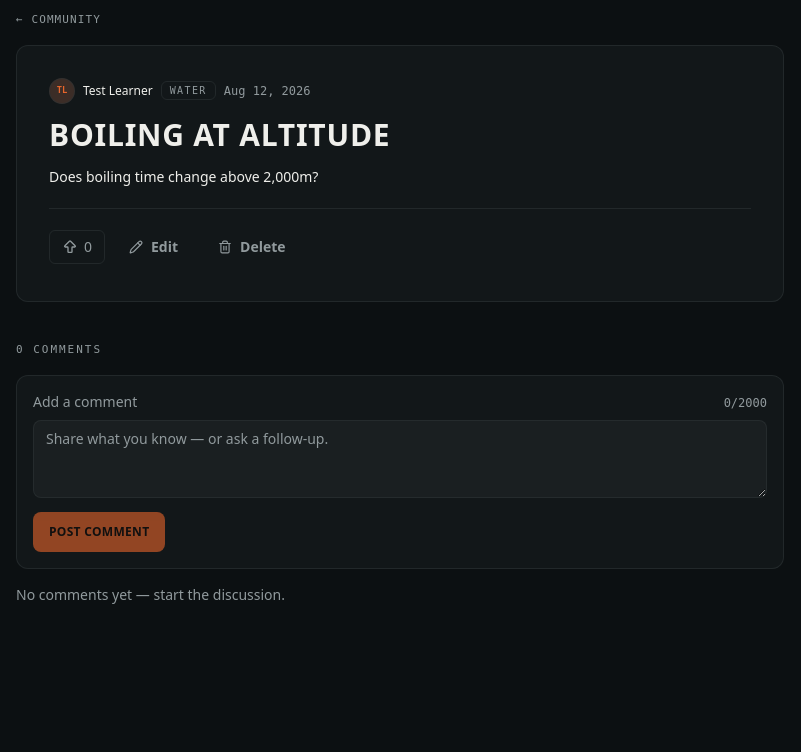
Test: PostDetailPage › renders the post with comments and toggles votes idempotently
expect the heading "Boiling at altitude" is shown: met, box [49,114,390,154]
expect the text "Does boiling time change above 2,000m?" is shown: met, box [49,166,318,186]
Click the button named "vote on this post": coordinates (77, 247) [49,230,105,264]
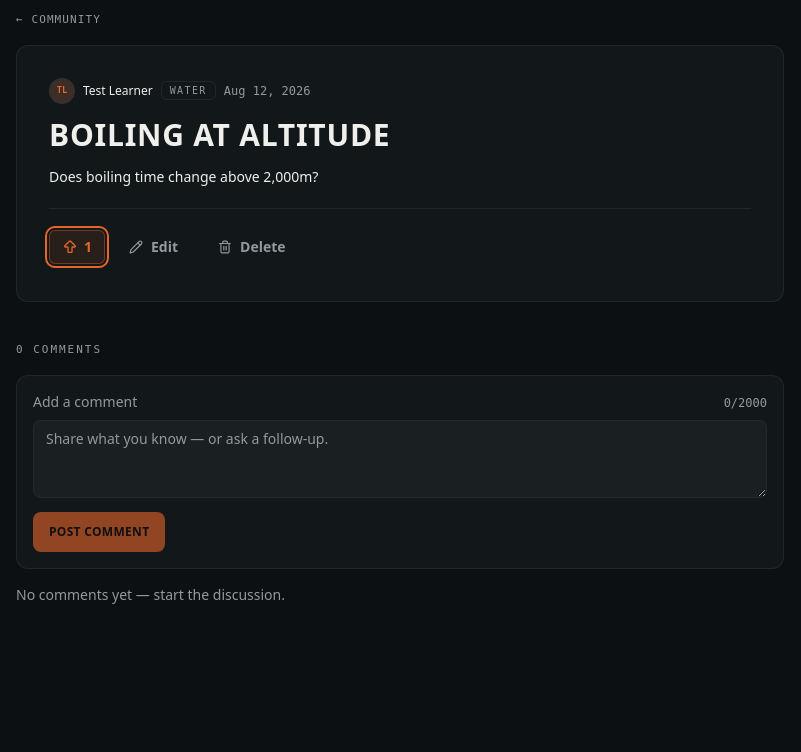
expect the button named "vote on this post" reads "1": met
Click the button named "vote on this post": coordinates (77, 247) [49,230,105,264]
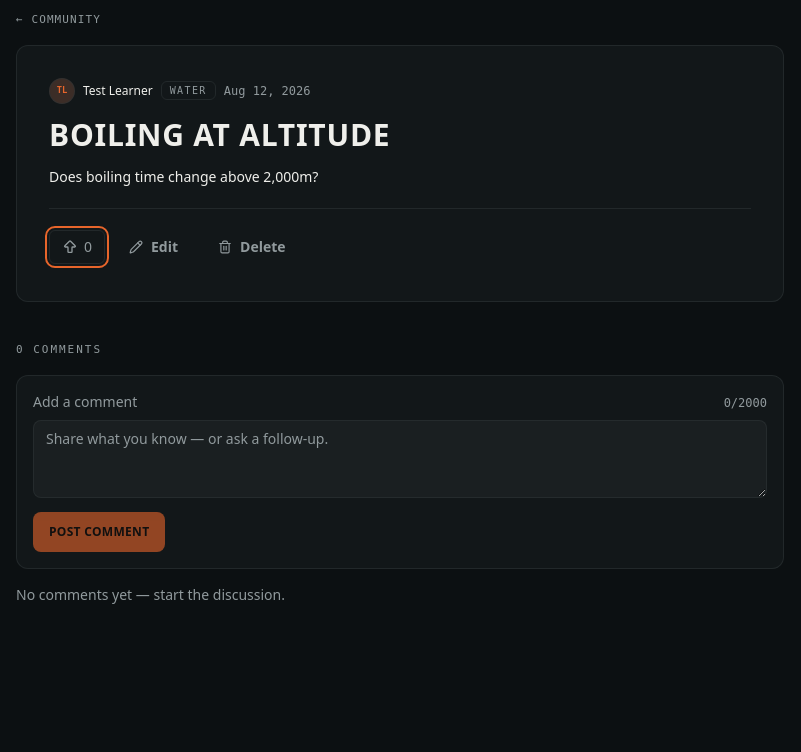
expect the button named "vote on this post" reads "0": met, box [49,230,105,264]
Comment + reply flow.
In the text box labelled "Add a comment": coordinates (400, 459) [33,420,767,498], type "At 2,000m add a minute."
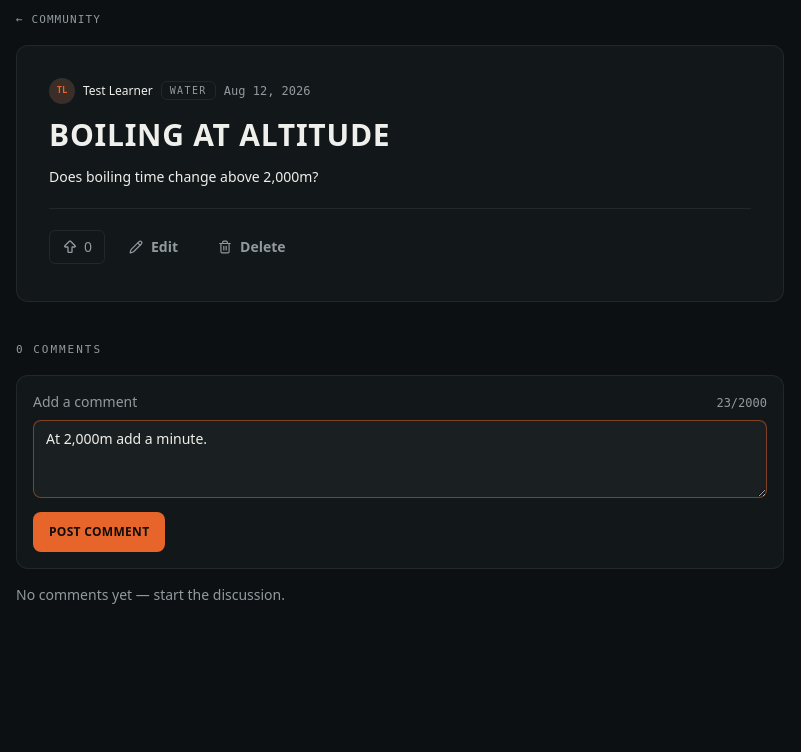
Click the button "Post comment": coordinates (99, 532) [33,512,165,552]
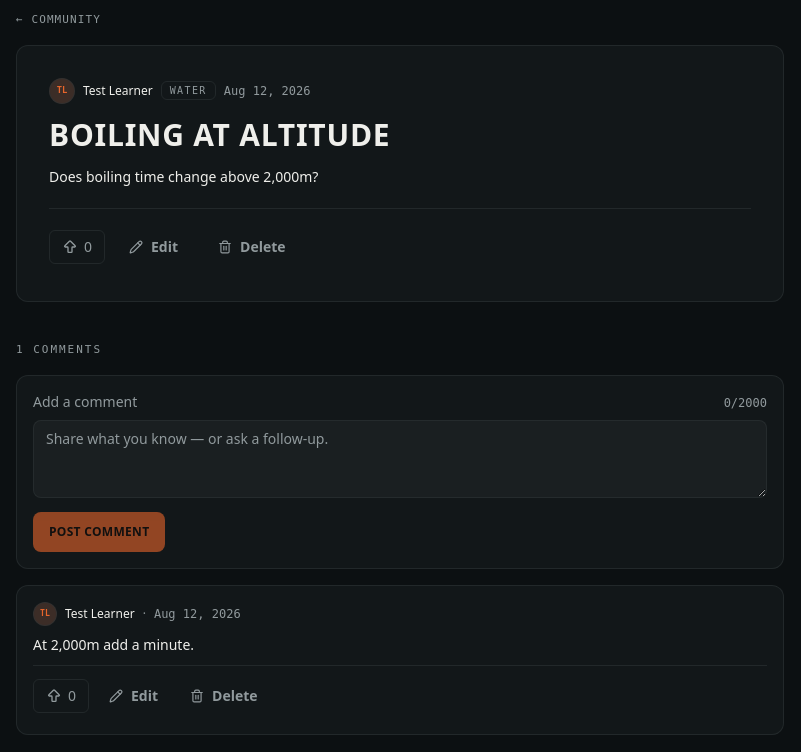
expect the text "At 2,000m add a minute." is shown: met, box [33,635,194,654]
